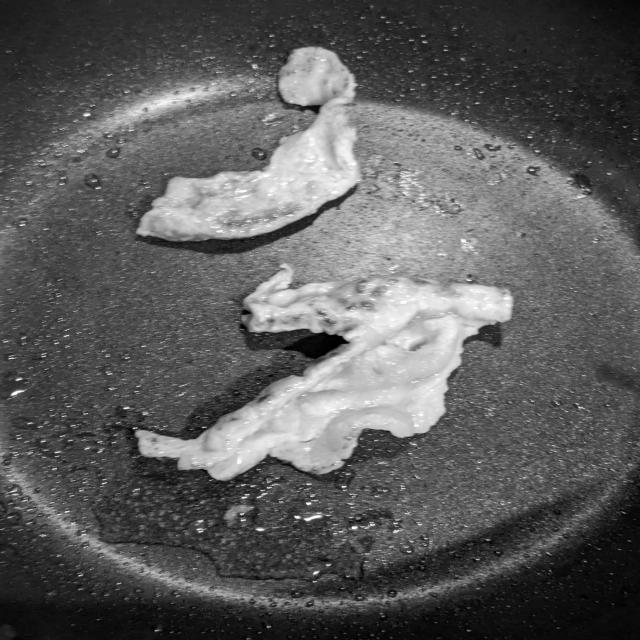NG undercooked pork,: (126, 253, 524, 487)
OK cooked pork,: (109, 37, 369, 249)
